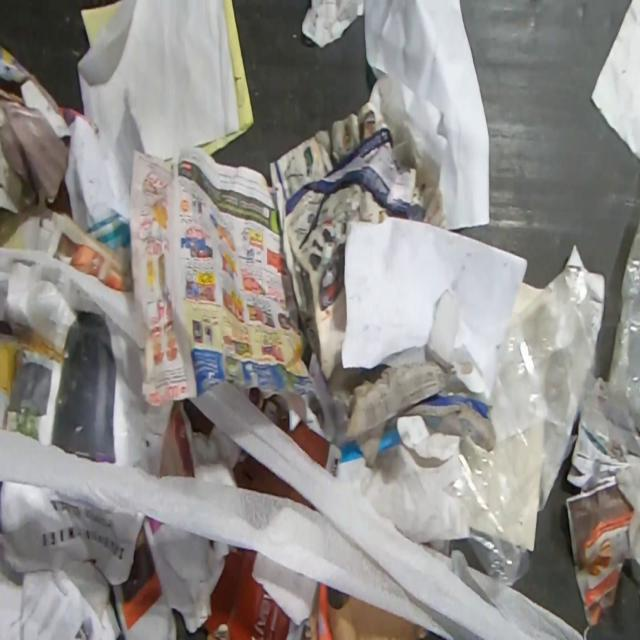cardboard: (200, 546, 306, 639), (249, 386, 342, 474), (232, 454, 316, 511)
soft_plastic: (442, 219, 640, 589)
